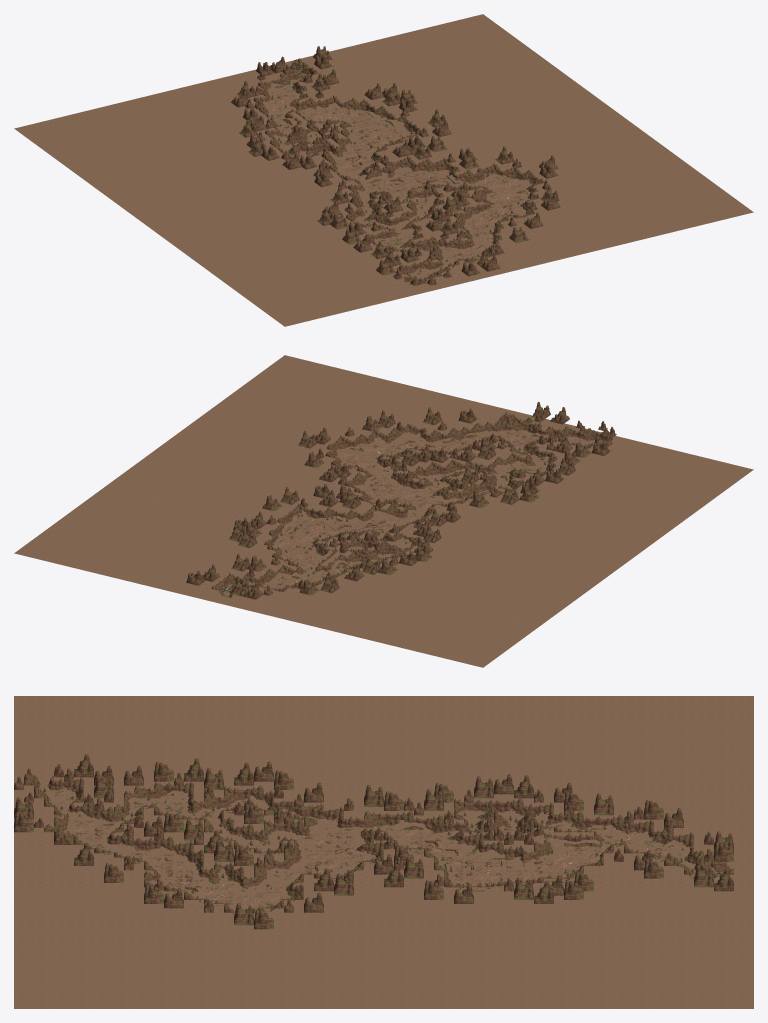
Rendered from map_F04_01.glb.
3 views of the same model, one above another, from view 1: azimuth 30°, elevation 25°; view 2: azimuth 150°, elevation 25°; view 3: azimuth 270°, elevation 25° (orthographic). The views are drawn at different scales.
Visible parts, largest first — view 1: default_ground; view 2: default_ground; view 3: default_ground.
Part boxes in pixels (x1,y1,x2,y2): default_ground: [14, 14, 753, 326]; default_ground: [14, 355, 753, 667]; default_ground: [14, 696, 753, 1008].
Size of the model in its own units: 2664 by 108 by 2664.
Materials: 283 (283 with a texture image).
